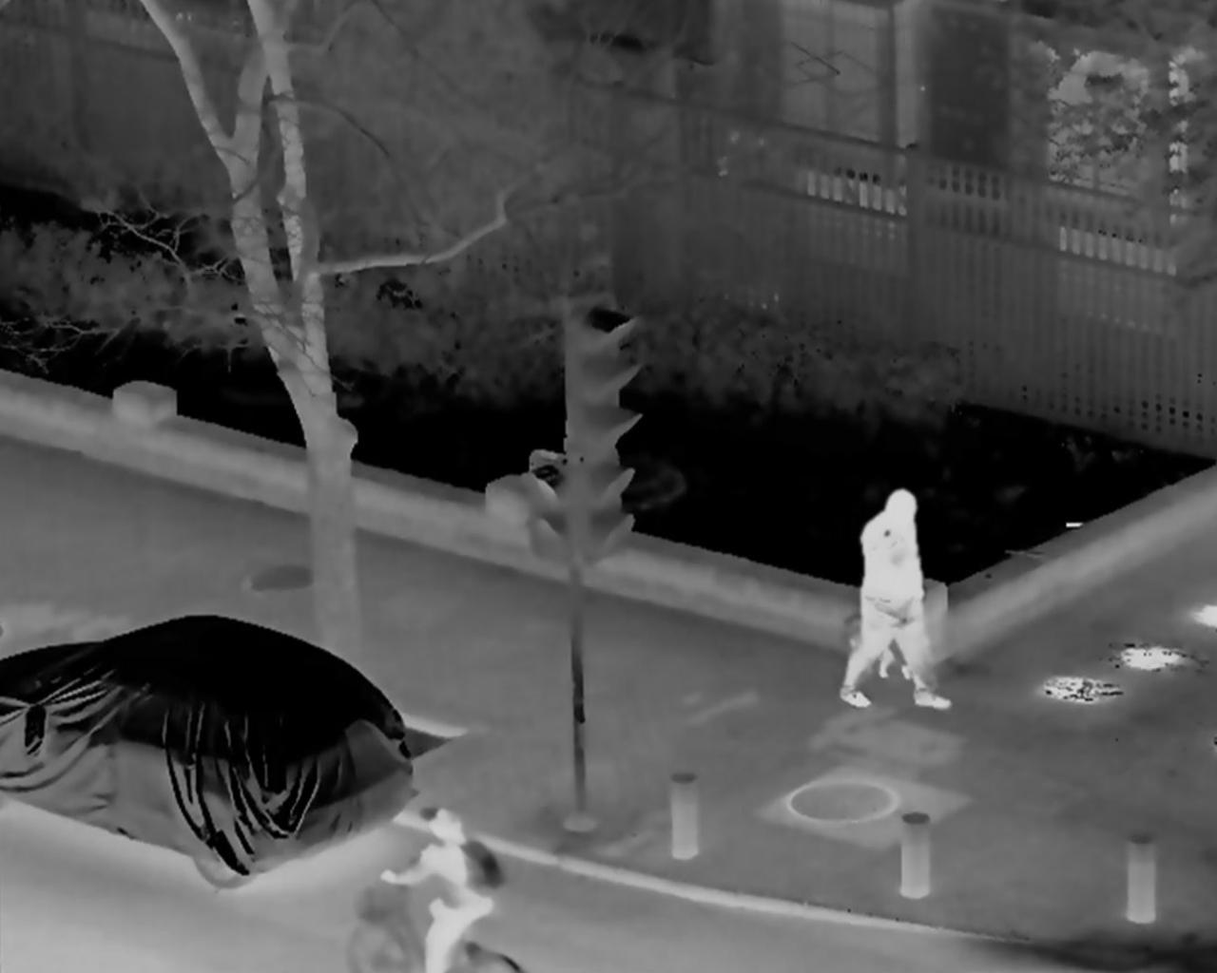person: (841, 491, 960, 715), (379, 811, 506, 973)
